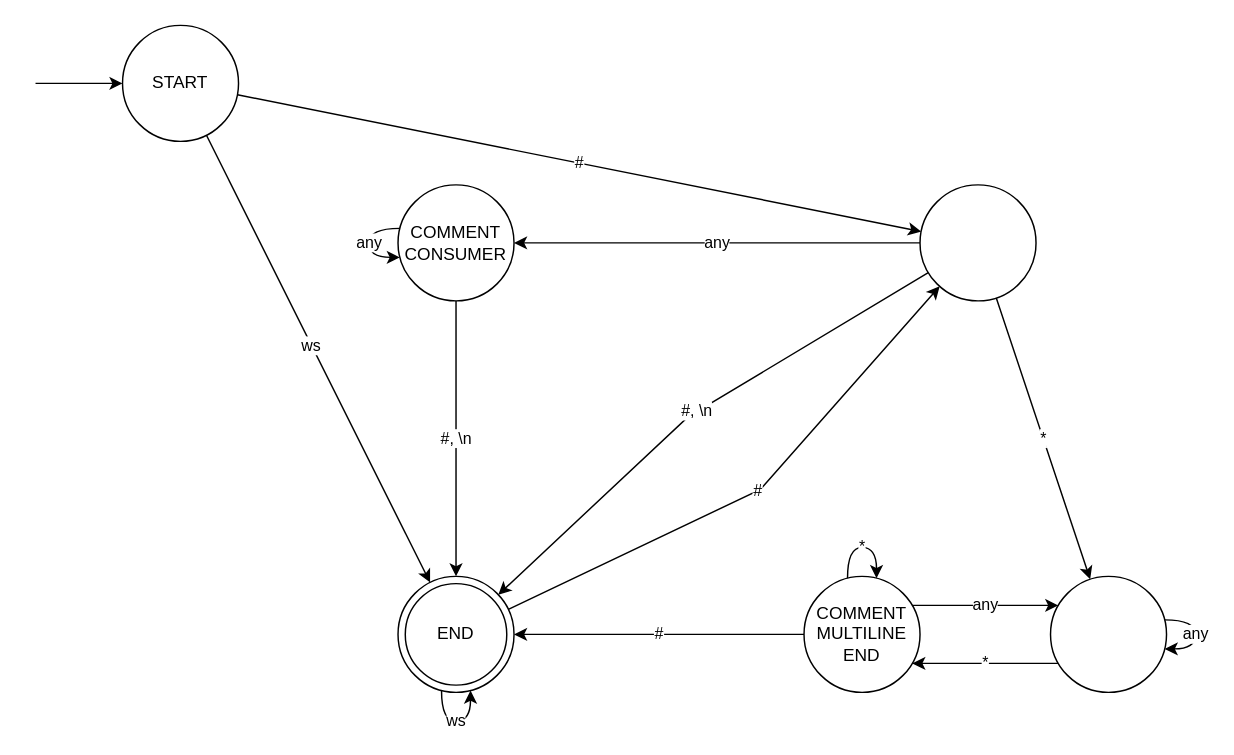
This 1234x755 diagram has some shape labels left out. The centre of each missing label's shape, as x and y in pixels:
"COMMENT MULTILINE" goes at (1108,633).
"COMMENT START" goes at (977,242).
